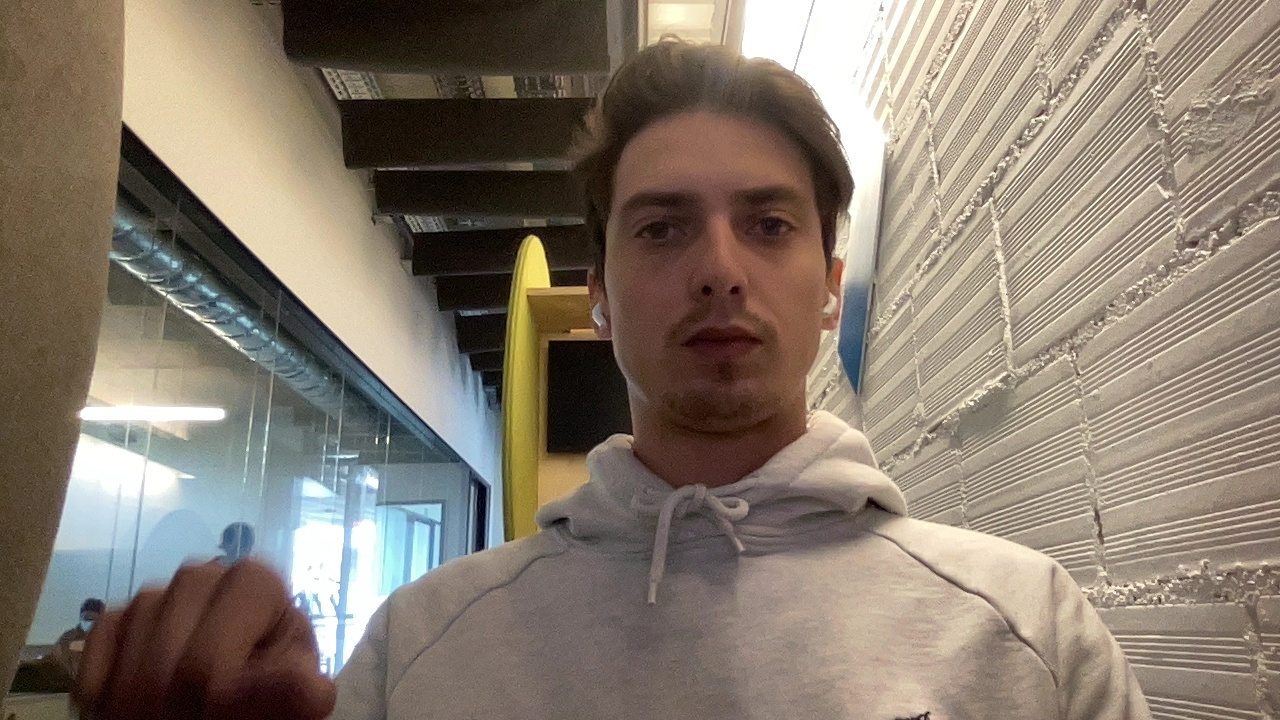yes: (43, 549, 349, 710)
